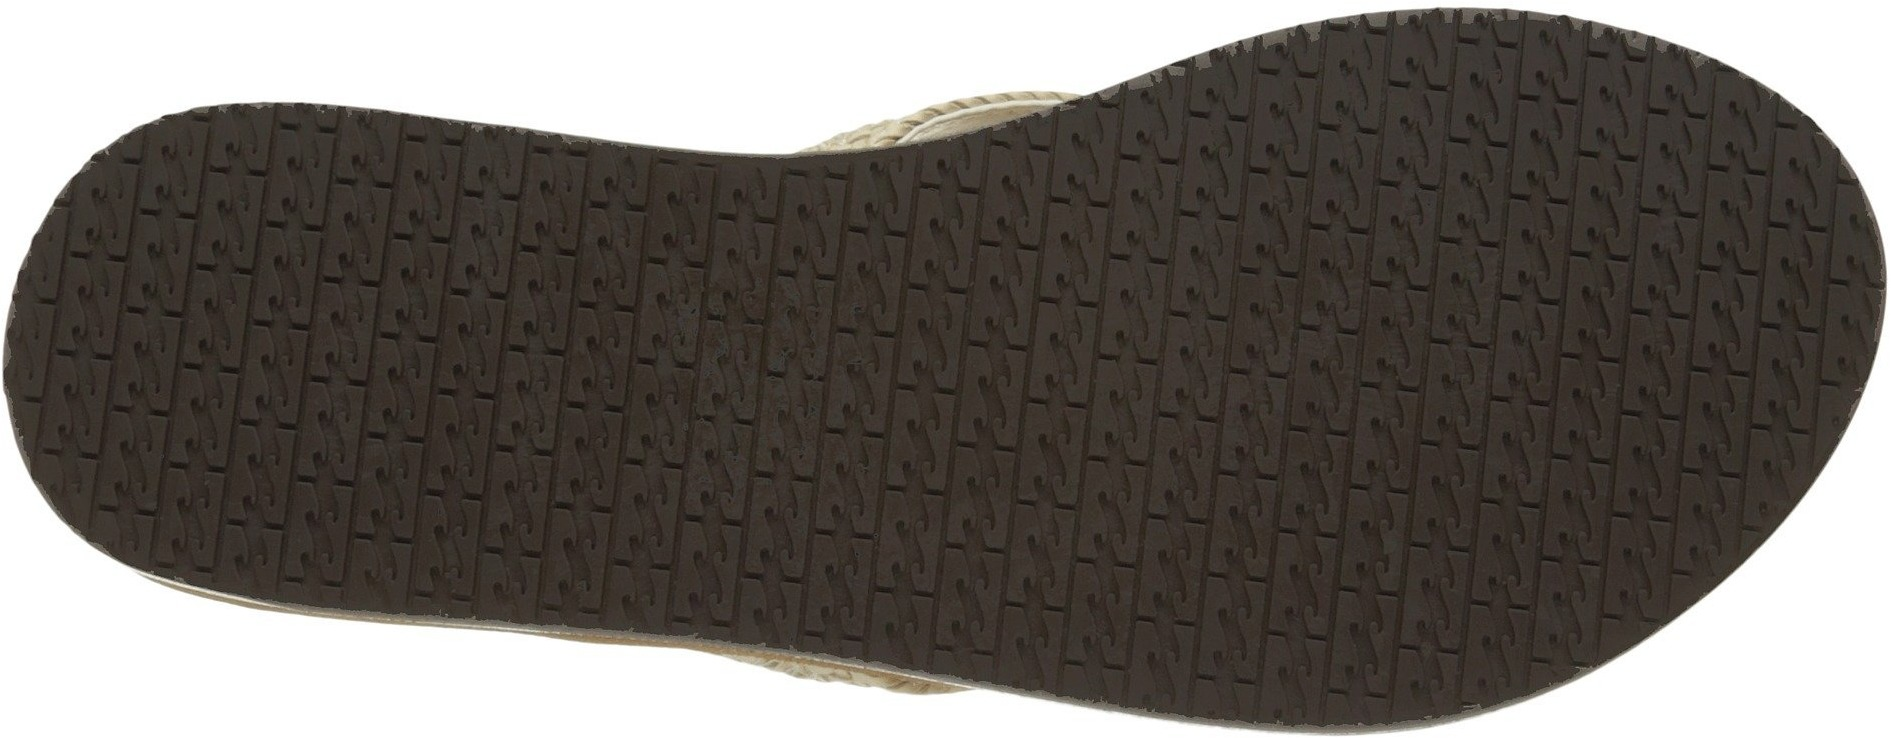exclude: (649, 0, 1136, 157)
other: (1157, 68, 1696, 596), (633, 150, 1147, 646), (137, 136, 611, 584)
